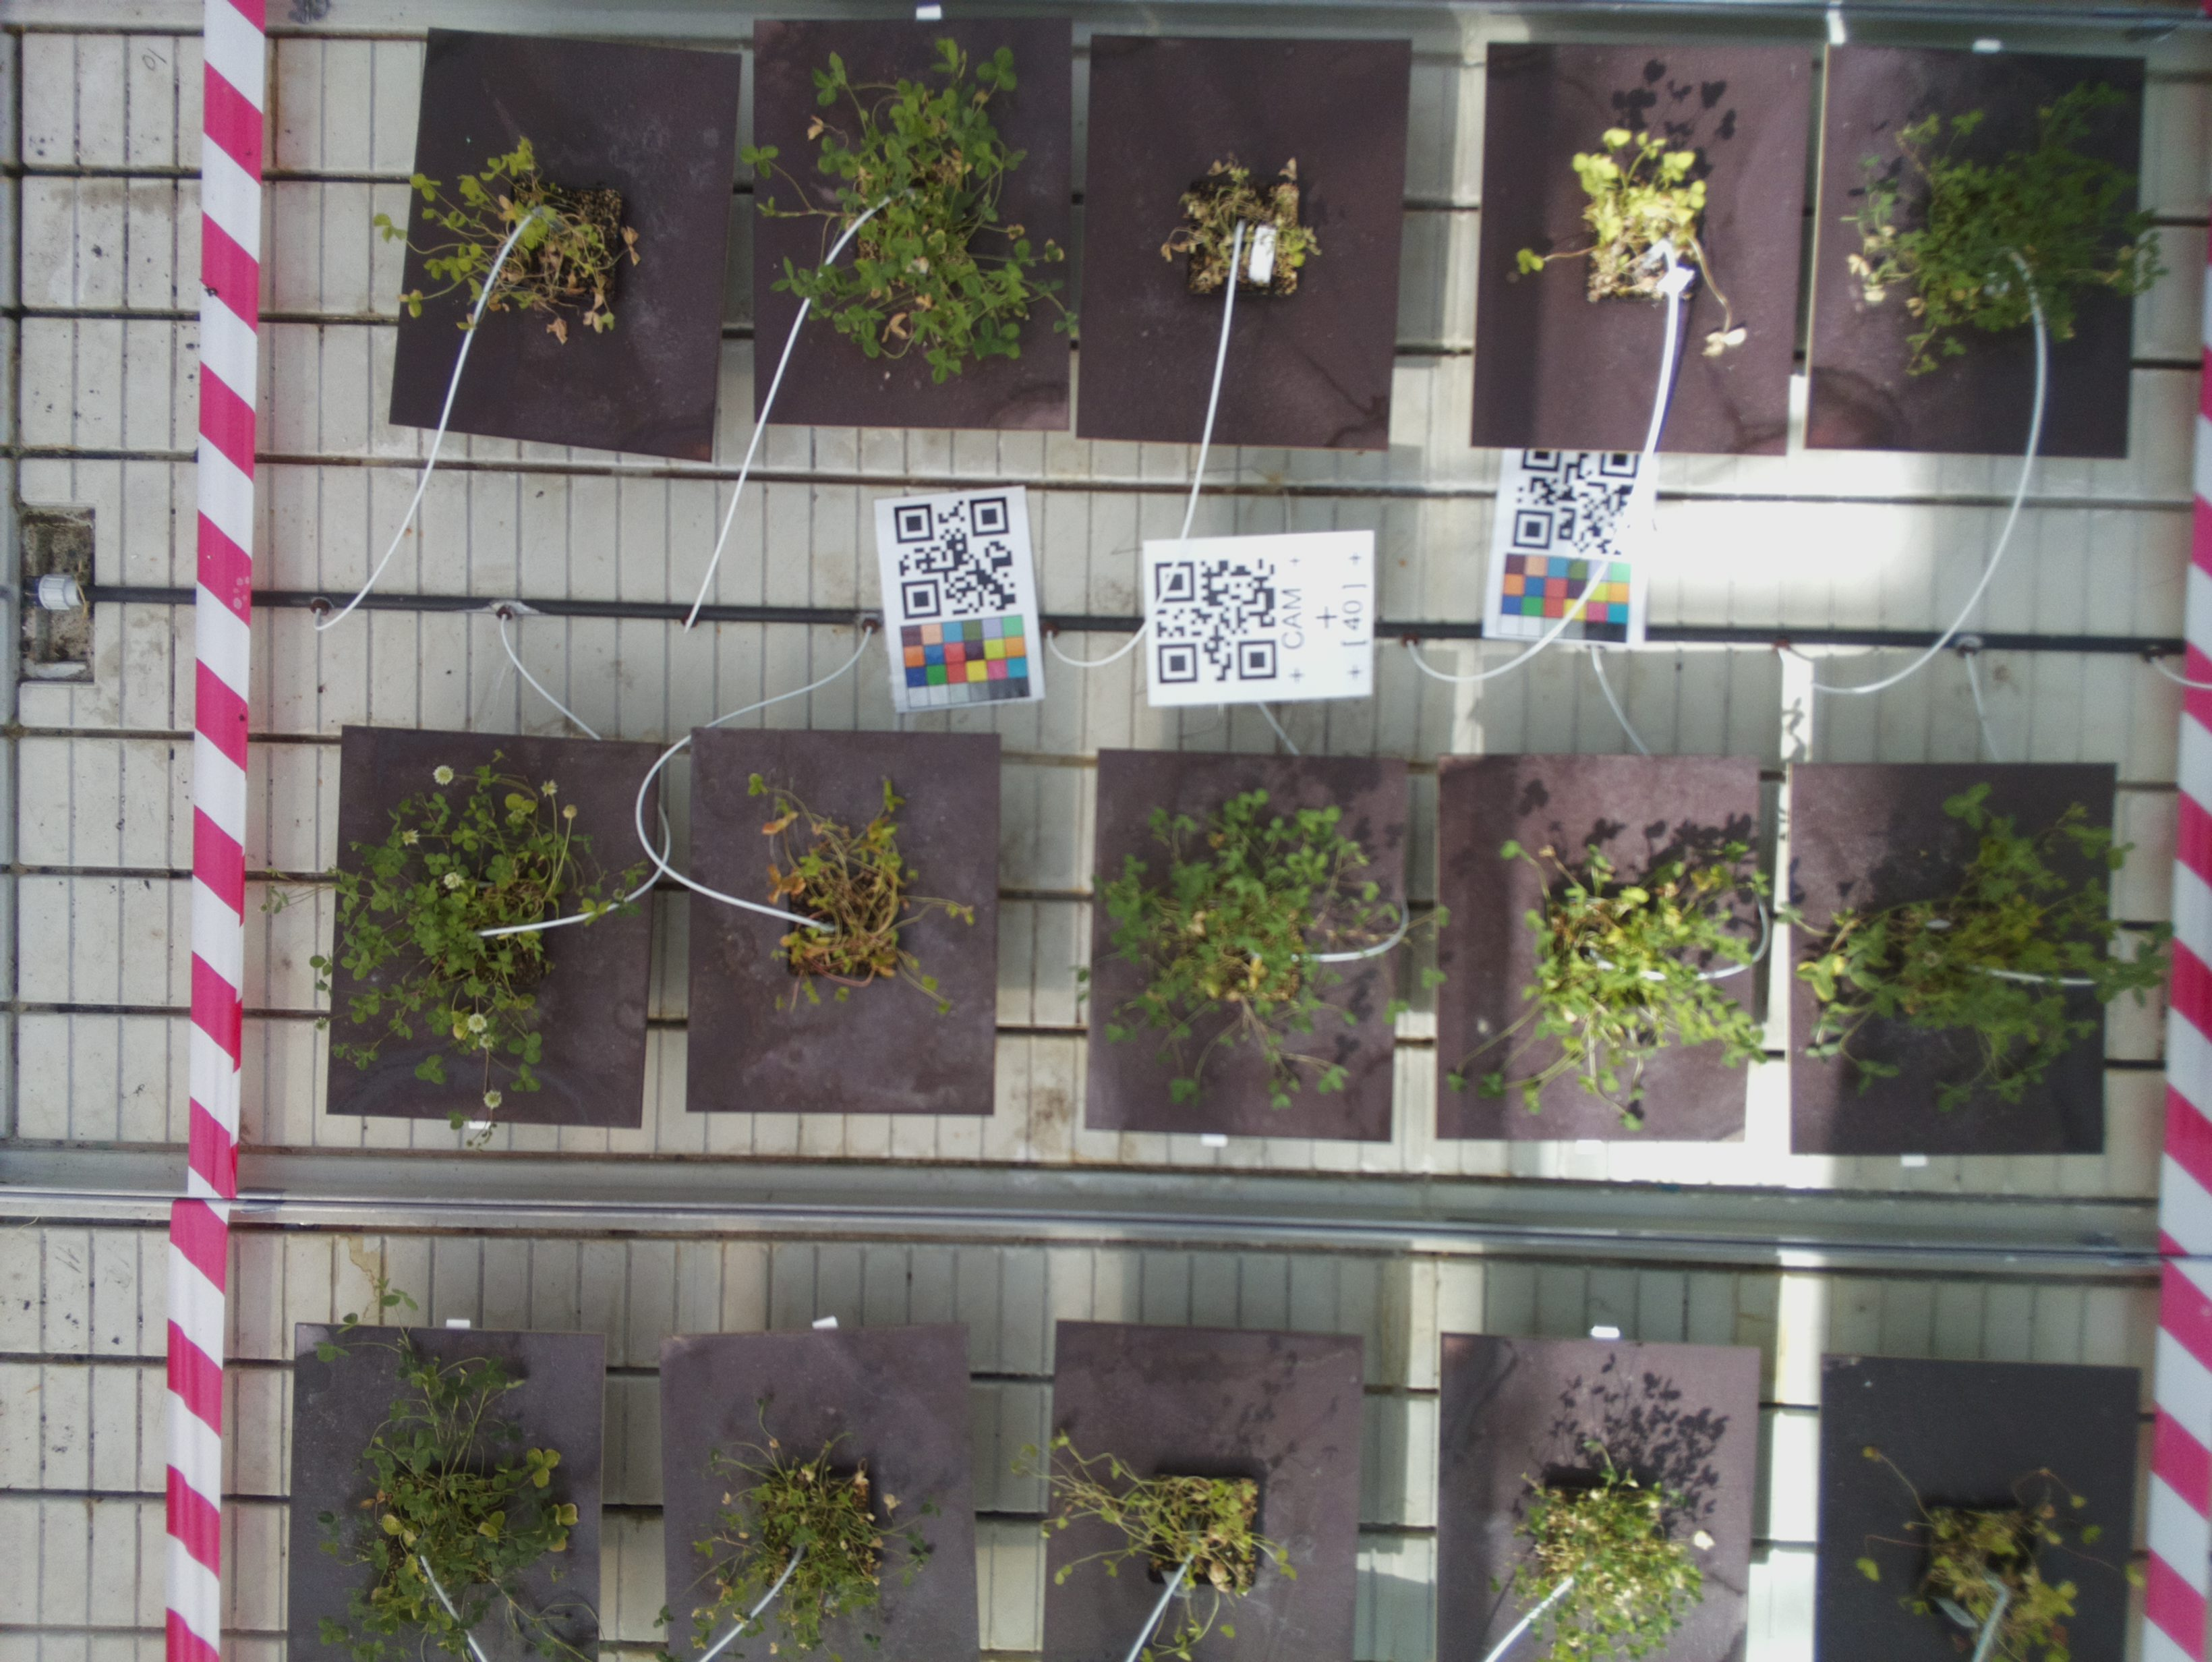POT: (756, 21, 1074, 433), (1086, 37, 1400, 450), (386, 51, 738, 415), (1791, 766, 2111, 1163), (1828, 49, 2130, 461), (1489, 44, 1791, 454), (339, 726, 644, 1128), (1433, 751, 1748, 1138), (686, 730, 999, 1110), (1100, 745, 1393, 1138)
QRCODE: (1135, 529, 1379, 709)
QRCOLOR: (873, 487, 1053, 711), (1489, 445, 1650, 651)
